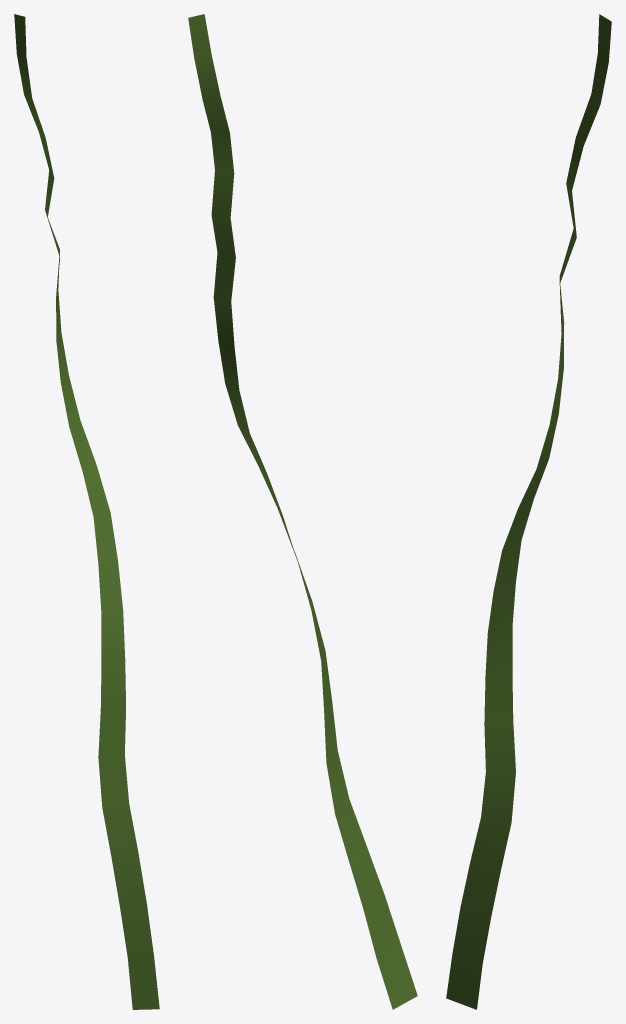
The model's file is plant_swamp_kelp_long_solo_U.fbx.
The picture shows the model from 3 angles, left to right: view 1: azimuth 90°, elevation 25°; view 2: azimuth 150°, elevation 25°; view 3: azimuth 270°, elevation 25°; orthographic projection. The views are drawn at different scales.
Parts seen in each view (by area): view 1: plant_swamp_kelp_long_solo_U; view 2: plant_swamp_kelp_long_solo_U; view 3: plant_swamp_kelp_long_solo_U.
Part boxes in pixels (x1,y1,x2,y2): plant_swamp_kelp_long_solo_U: (14, 14, 159, 1009); plant_swamp_kelp_long_solo_U: (188, 14, 417, 1009); plant_swamp_kelp_long_solo_U: (446, 14, 611, 1009).
Bounding box in the file's own units: 34.42 × 219 × 30.9.
